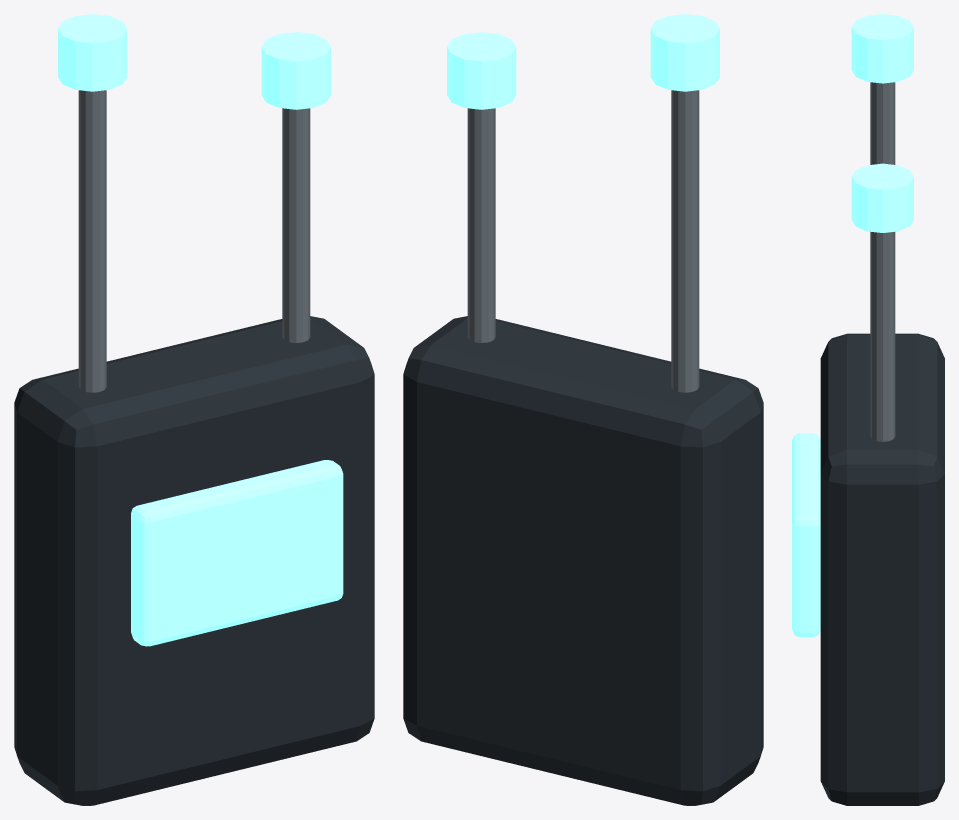
File: HackerSignalPack.fbx
The picture shows the model from 3 angles, left to right: view 1: azimuth 30°, elevation 25°; view 2: azimuth 150°, elevation 25°; view 3: azimuth 270°, elevation 25°; orthographic projection. The views are drawn at different scales.
Parts seen in each view (by area): view 1: Signal Pack, Signal Screen, Signal Mast Left, Signal Mast Right, Signal Beacon Right, Signal Beacon Left; view 2: Signal Pack, Signal Mast Left, Signal Mast Right, Signal Beacon Right, Signal Beacon Left; view 3: Signal Pack, Signal Screen, Signal Mast Right, Signal Beacon Left, Signal Beacon Right, Signal Mast Left.
Part boxes in pixels (x1,y1,x2,y2): Signal Pack: (14,316,374,805); Signal Screen: (131,460,343,646); Signal Mast Left: (78,90,106,392); Signal Mast Right: (282,108,310,342); Signal Beacon Right: (261,32,330,109); Signal Beacon Left: (58,14,127,91); Signal Pack: (403,316,763,805); Signal Mast Left: (671,90,699,392); Signal Mast Right: (467,108,495,342); Signal Beacon Right: (447,32,516,109); Signal Beacon Left: (650,14,719,91); Signal Pack: (820,333,944,805); Signal Screen: (792,433,820,637); Signal Mast Right: (870,231,895,441); Signal Beacon Left: (851,14,913,83); Signal Beacon Right: (851,163,913,232); Signal Mast Left: (870,82,895,164).
Size of the model in its own units: 0.68 by 1.56 by 0.32.
